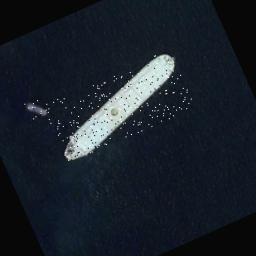boat: (41, 48, 195, 164), (23, 96, 48, 122)
